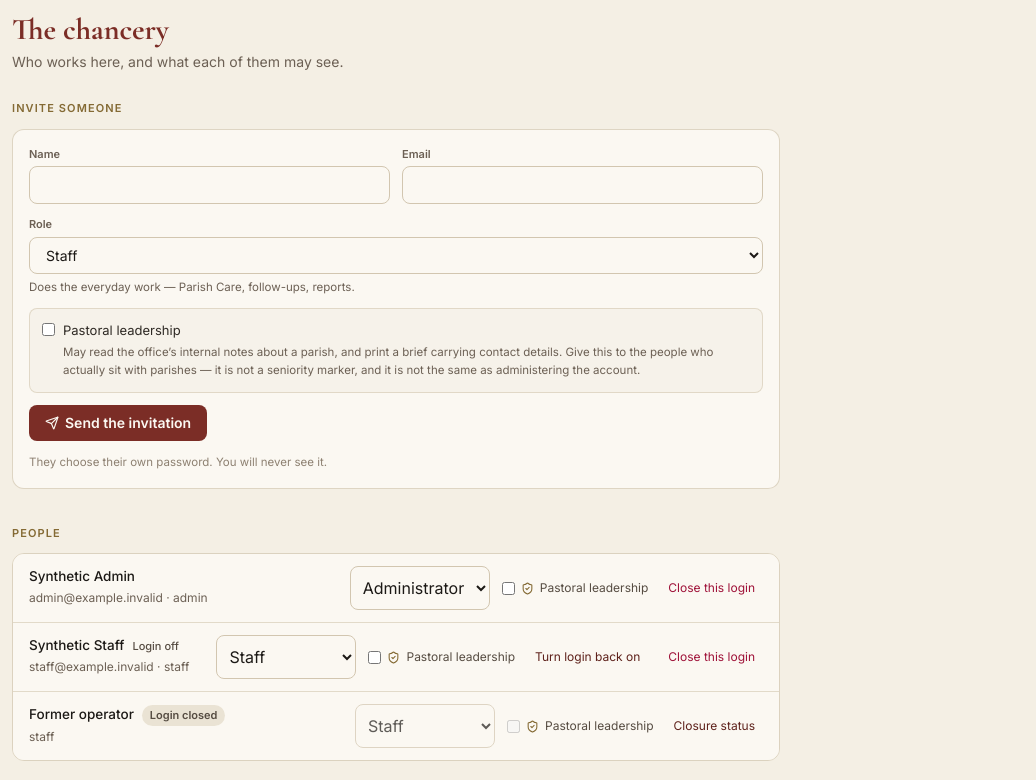
it: chancery closure controls › does not accept malformed successful role responses as confirmation
Select "Administrator" in the dropdown named "Role for Synthetic Staff" at (286, 657), box [216, 635, 356, 679]
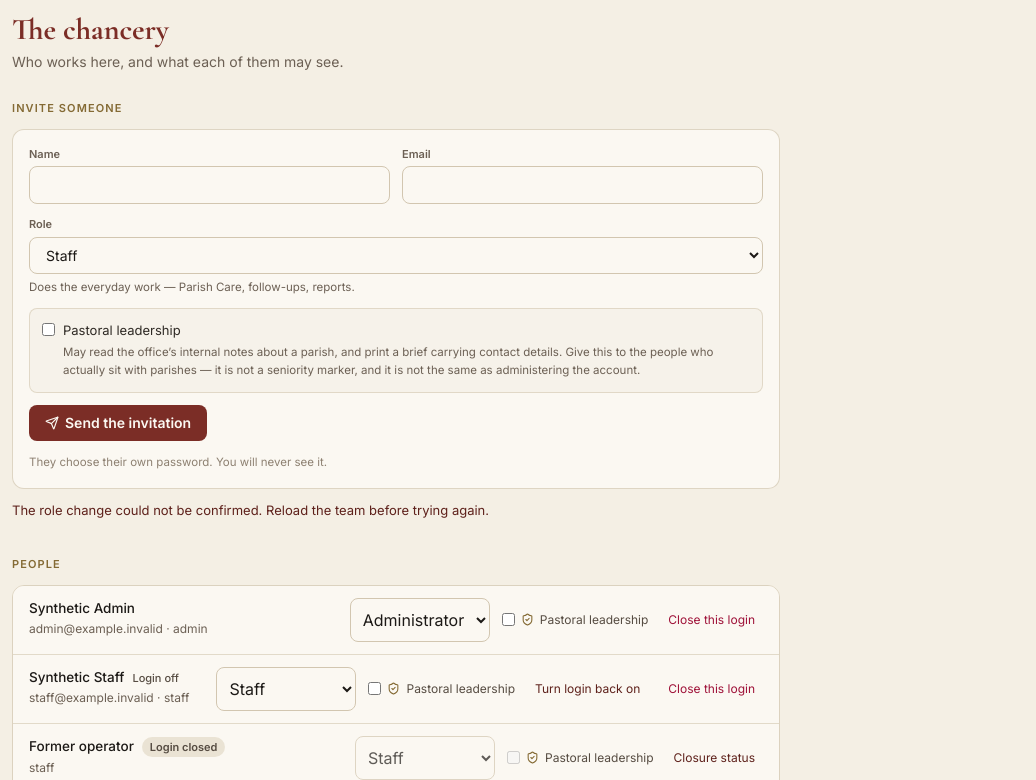
Expected: the message reads "The role change could not be confirmed. Reload the team before trying again.", [12, 502, 489, 518]
